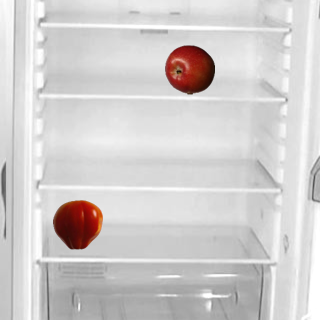Apple Braeburn: (164, 44, 214, 94)
Tomato 1: (52, 199, 102, 249)
